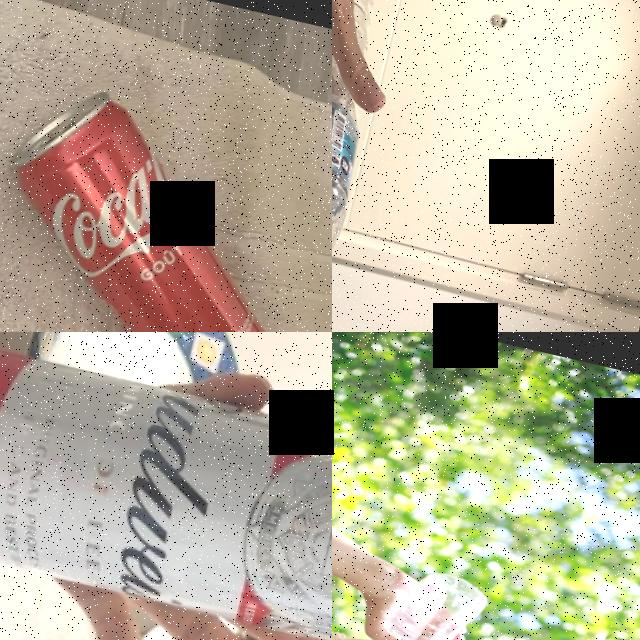bottle: (332, 0, 398, 332), (339, 556, 487, 640)
can: (0, 338, 332, 640), (0, 74, 312, 332)
